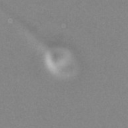normal: (1, 1, 48, 53)
